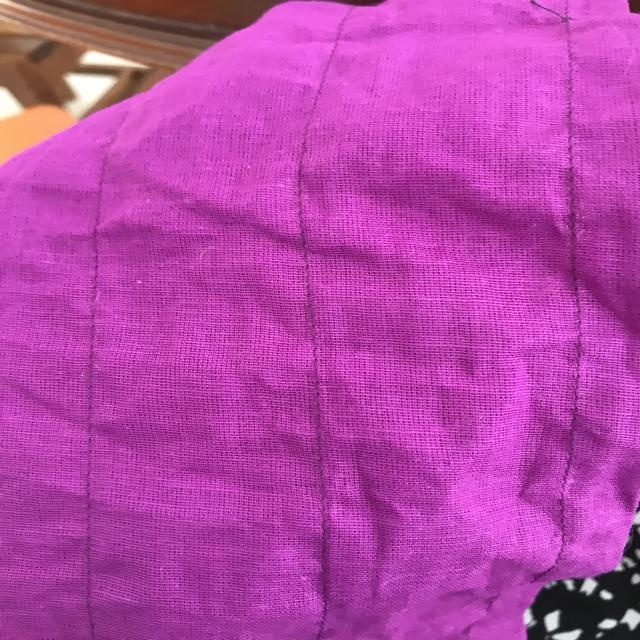good: (307, 418, 354, 552), (286, 204, 326, 319)
